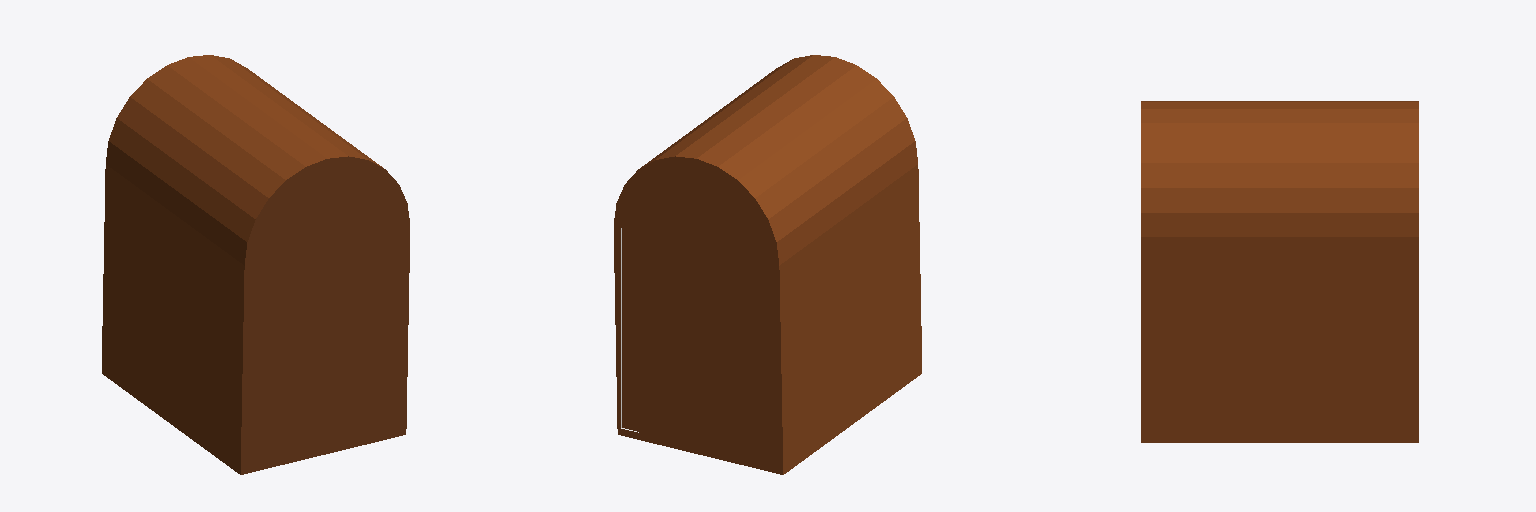
The model's file is drawer.obj.
The picture shows the model from 3 angles: view 1: azimuth 30°, elevation 25°; view 2: azimuth 150°, elevation 25°; view 3: azimuth 270°, elevation 25°; orthographic projection.
Parts seen in each view (by area): view 1: Mesh1 Model; view 2: Mesh1 Model; view 3: Mesh1 Model.
Boxes of the visible parts, x1,y1,x2,y2 form: Mesh1 Model: [102, 55, 409, 474]; Mesh1 Model: [614, 55, 921, 474]; Mesh1 Model: [1141, 101, 1418, 442].
Size of the model in its own units: 13.89 by 23.08 by 19.69.